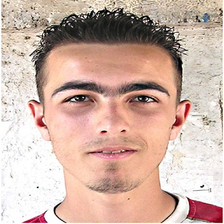no_mask: (41, 57, 176, 193)
